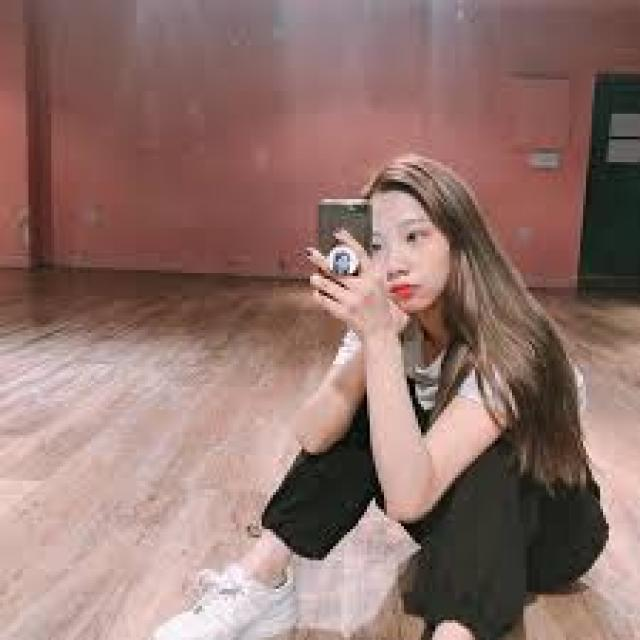Phone: (314, 195, 376, 308)
